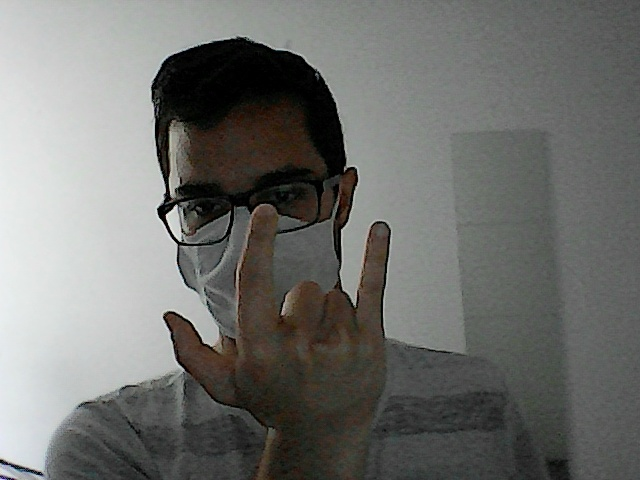shoot: (155, 199, 396, 441)
